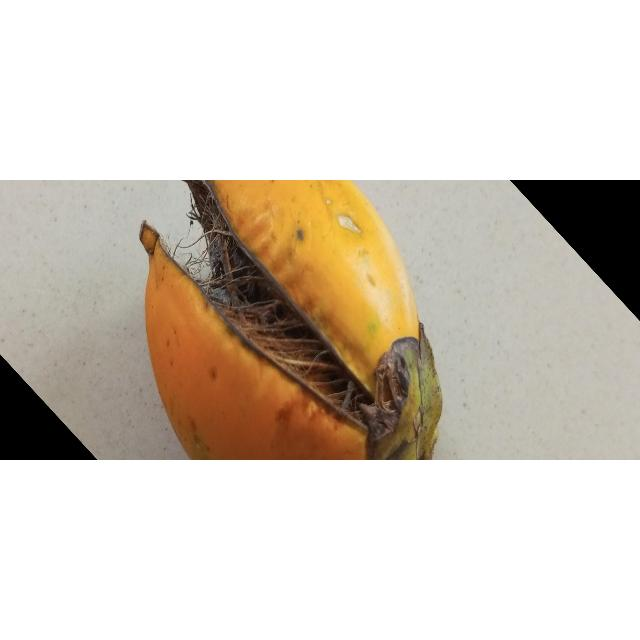damaged: (141, 180, 443, 461)
